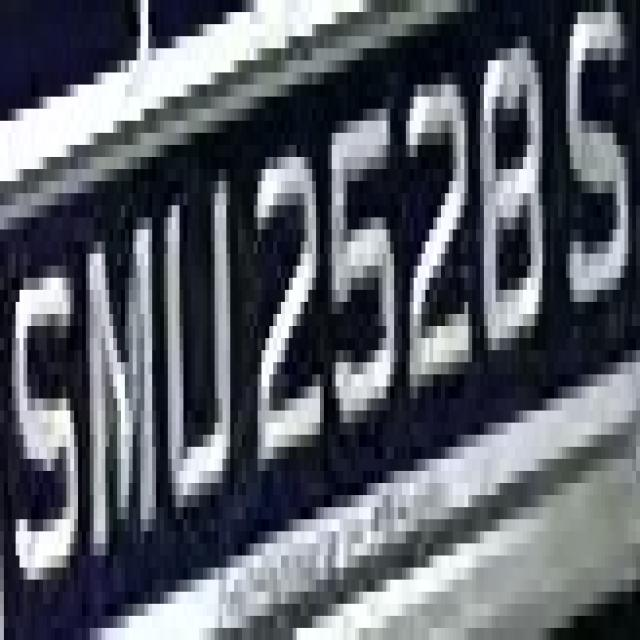2: (246, 97, 328, 531), (398, 60, 476, 447)
5: (320, 72, 410, 471)
8: (472, 24, 546, 399)
M: (74, 157, 160, 568)
S: (550, 0, 636, 350), (0, 4, 1, 12)
U: (148, 133, 242, 567)
